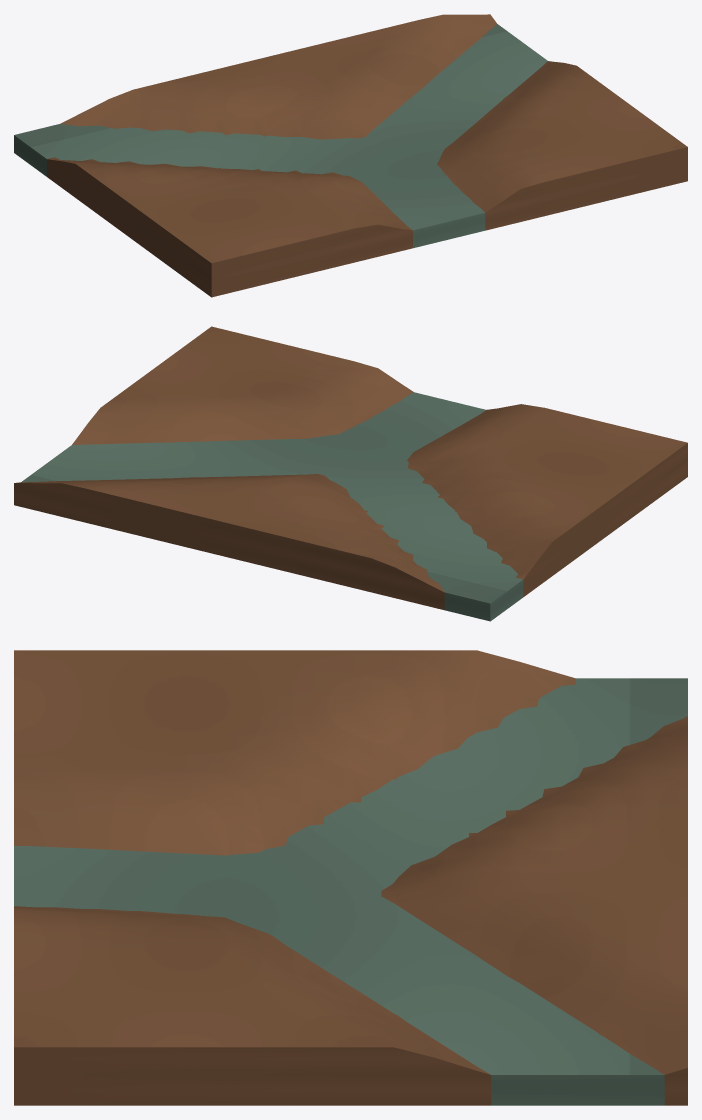
Rendered from lokoja.glb.
3 renders of one model, top to bottom at view 1: azimuth 30°, elevation 25°; view 2: azimuth 150°, elevation 25°; view 3: azimuth 270°, elevation 25°, orthographic. The views are drawn at different scales.
Parts seen in each view (by area): view 1: lokoja; view 2: lokoja; view 3: lokoja.
Part boxes in pixels (x1,y1,x2,y2): lokoja: [14, 14, 687, 297]; lokoja: [14, 326, 687, 621]; lokoja: [14, 650, 687, 1105].
Bounding box in the file's own units: 7.8 × 0.5351 × 5.6.
Materials: 1 (1 with a texture image).
